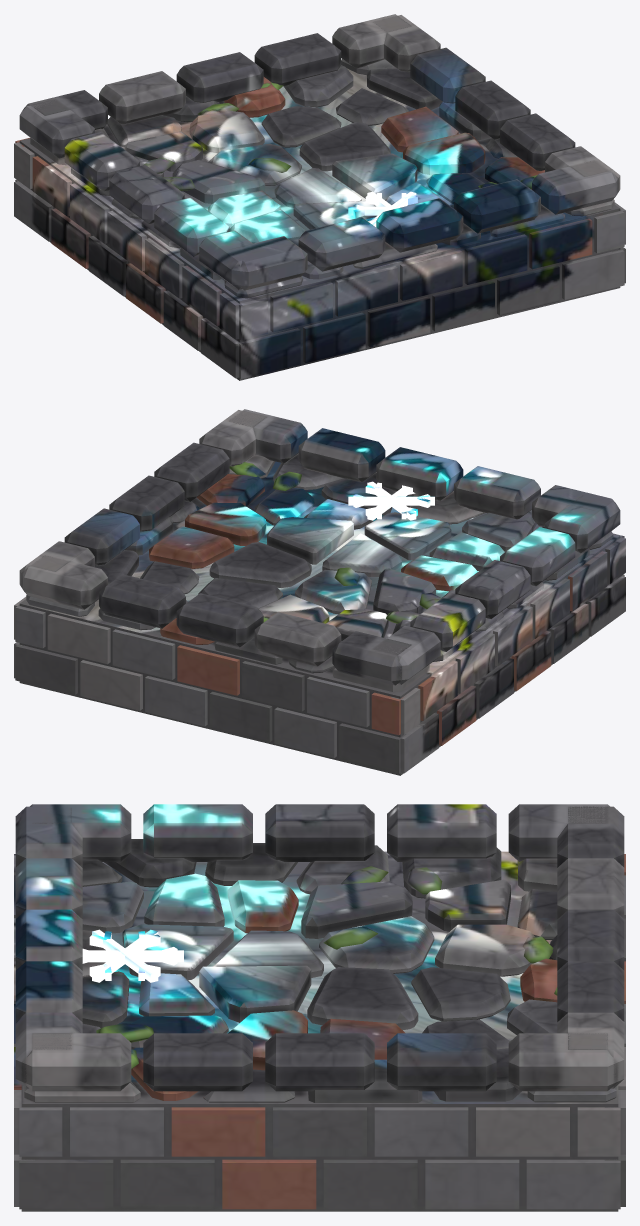
The model's file is glacier_plate.glb.
3 views of the same model, one above another, from view 1: azimuth 30°, elevation 25°; view 2: azimuth 150°, elevation 25°; view 3: azimuth 270°, elevation 25° (orthographic). The views are drawn at different scales.
Visible parts, largest first — view 1: glacier_plate; view 2: glacier_plate; view 3: glacier_plate.
Part boxes in pixels (x1,y1,x2,y2): glacier_plate: (14,14,625,380); glacier_plate: (14,409,625,775); glacier_plate: (14,804,625,1211).
Bounding box in the file's own units: 2.01 × 0.57 × 2.01.
1 material, 1 textured.
